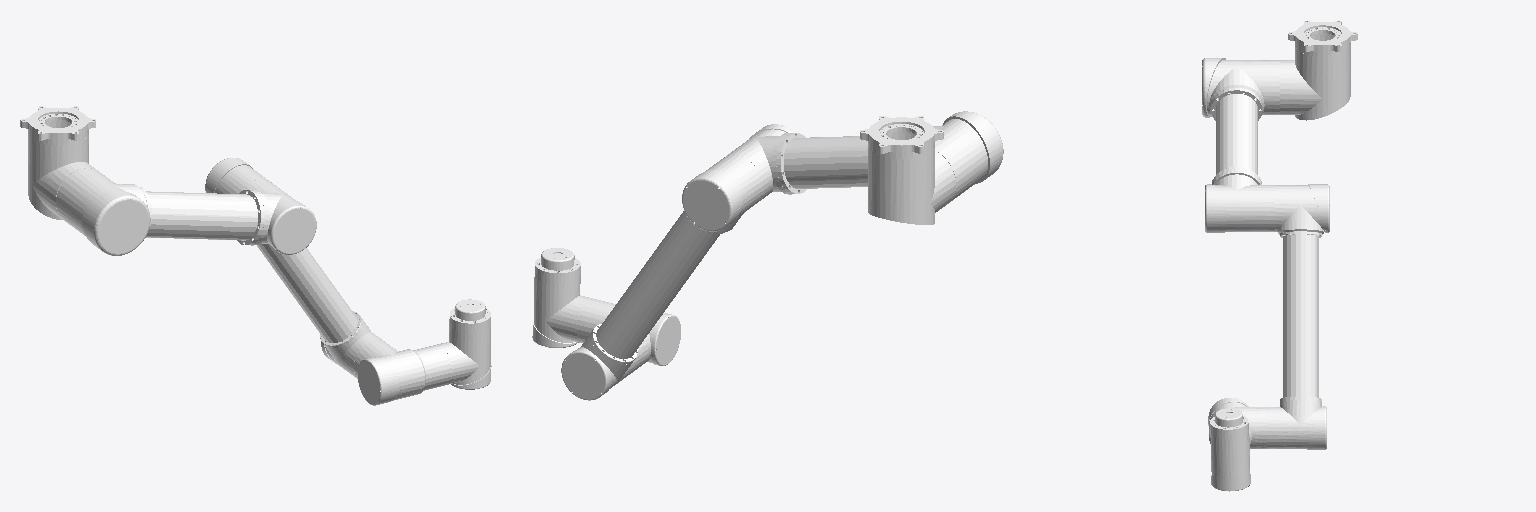
robot.urdf — uuuuuu:
<?xml version="1.0" encoding="utf-8" ?>
<!-- This URDF was automatically created by SolidWorks to URDF Exporter! Originally created by [author] ([email redacted]) 
     Commit Version: 1.6.0-4-g7f85cfe  Build Version: 1.6.7995.38578
     For more information, please see http://wiki.ros.org/sw_urdf_exporter -->
<robot name="uuuuuu">
    <link name="world">
        <!-- 无需添加inertial/visual/collision，仅作为关节父对象 -->
    </link>

    <!-- 2. 第二步：添加fixed关节，固定base_link到world（核心：基座不动，关节可动） -->
    <joint name="world_to_base" type="fixed">
        <parent link="world"/>          <!-- 父link：刚定义的world -->
        <child link="base_link"/>       <!-- 子link：你的机械臂基座 -->
        <origin xyz="0 0 2" rpy="0 0 0"/>  <!-- 基座离地2m，避免贴地碰撞 -->
        <axis xyz="0 0 0"/>             <!-- fixed关节无自由度，轴参数可省略但写全更规范 -->
    </joint>
    <link name="base_link">
        <inertial>
            <origin xyz="-0.094651602827853 -0.213660713471675 0.00488264737125347" rpy="0 0 0" />
            <mass value="0.22233807386567" />
            <inertia ixx="0.000368095320162521" ixy="-1.04638347487958E-19" ixz="2.42627171555454E-20" iyy="0.000368095320162521" iyz="1.09920013538763E-19" izz="0.000709708576103173" />
        </inertial>
        <visual>
            <origin xyz="0 0 0" rpy="0 0 0" />
            <geometry>
                <mesh filename="package://uuuuuu/meshes/base_link.STL" />
            </geometry>
            <material name="">
                <color rgba="1 1 1 1" />
            </material>
        </visual>
        <collision>
            <origin xyz="0 0 0" rpy="0 0 0" />
            <geometry>
                <mesh filename="package://uuuuuu/meshes/base_link.STL" />
            </geometry>
        </collision>
    </link>
    
    <link name="Empty_Link1">
        <inertial>
            <origin xyz="9.336300414442E-07 0.0315935410455933 0.0280443968773365" rpy="0 0 0" />
            <mass value="0.740353873218731" />
            <inertia ixx="0.00323603951396584" ixy="-3.81136497589404E-08" ixz="-8.88335356283492E-09" iyy="0.00320783852922774" iyz="0.000674010596583587" izz="0.00279225631276645" />
        </inertial>
        <visual>
            <origin xyz="0 0 0" rpy="0 0 0" />
            <geometry>
                <mesh filename="package://uuuuuu/meshes/Empty_Link1.STL" />
            </geometry>
            <material name="">
                <color rgba="1 1 1 1" />
            </material>
        </visual>
        <collision>
            <origin xyz="0 0 0" rpy="0 0 0" />
            <geometry>
                <mesh filename="package://uuuuuu/meshes/Empty_Link1.STL" />
            </geometry>
        </collision>
    </link>
    <joint name="joint1" type="revolute">
        <origin xyz="-0.094652 -0.21366 -0.12281" rpy="1.5708 0 0" />
        <parent link="base_link" />
        <child link="Empty_Link1" />
        <axis xyz="0 -1 0" />
        <limit lower="-3.14" upper="3.14" effort="100" velocity="1" />
        <dynamics damping="0.2" friction="0.05"/>
    </joint>
    <link name="Empty_Link2">
        <inertial>
            <origin xyz="-2.65262428689184E-08 0.20466457121005 0.00879498071494422" rpy="0 0 0" />
            <mass value="1.84379333102601" />
            <inertia ixx="0.00897464537944903" ixy="1.38180060741135E-07" ixz="3.63856286066721E-08" iyy="0.004890074823004" iyz="0.000135201097840955" izz="0.00962311964428911" />
        </inertial>
        <visual>
            <origin xyz="0 0 0" rpy="0 0 0" />
            <geometry>
                <mesh filename="package://uuuuuu/meshes/Empty_Link2.STL" />
            </geometry>
            <material name="">
                <color rgba="1 1 1 1" />
            </material>
        </visual>
        <collision>
            <origin xyz="0 0 0" rpy="0 0 0" />
            <geometry>
                <mesh filename="package://uuuuuu/meshes/Empty_Link2.STL" />
            </geometry>
        </collision>
    </link>
    <joint name="joint2" type="revolute">
        <origin xyz="0 0 0.201" rpy="-3.1416 0 1.3145" />
        <parent link="Empty_Link1" />
        <child link="Empty_Link2" />
        <axis xyz="0 0 1" />
        <limit lower="-3.14" upper="3.14" effort="100" velocity="1" />
        <dynamics damping="0.2" friction="0.05"/>
    </joint>
    <link name="Empty_Link3">
        <inertial>
            <origin xyz="9.29616495726204E-07 0.00642971596215935 0.250998444680677" rpy="0 0 0" />
            <mass value="1.10391129944902" />
            <inertia ixx="0.00650285684202923" ixy="3.05615161643247E-08" ixz="-3.93153805041194E-09" iyy="0.00681436764219383" iyz="5.90970197565359E-06" izz="0.00211728540342514" />
        </inertial>
        <visual>
            <origin xyz="0 0 0" rpy="0 0 0" />
            <geometry>
                <mesh filename="package://uuuuuu/meshes/Empty_Link3.STL" />
            </geometry>
            <material name="">
                <color rgba="1 1 1 1" />
            </material>
        </visual>
        <collision>
            <origin xyz="0 0 0" rpy="0 0 0" />
            <geometry>
                <mesh filename="package://uuuuuu/meshes/Empty_Link3.STL" />
            </geometry>
        </collision>
    </link>
    <joint name="joint3" type="revolute">
        <origin xyz="0 0.444 0.15" rpy="-1.5708 0 0.74321" />
        <parent link="Empty_Link2" />
        <child link="Empty_Link3" />
        <axis xyz="0 -1 0" />
        <limit lower="-3.14" upper="3.14" effort="100" velocity="1" />
        <dynamics damping="0.2" friction="0.05"/>
    </joint>
    <link name="Empty_Link4">
        <inertial>
            <origin xyz="0.0172857118487739 3.75722244646548E-05 0.0286026586882433" rpy="0 0 0" />
            <mass value="0.527906584946707" />
            <inertia ixx="0.00152053995911766" ixy="5.00518002907663E-07" ixz="0.000386290868823113" iyy="0.00179298454140404" iyz="-6.18196626379171E-07" izz="0.00131719359877362" />
        </inertial>
        <visual>
            <origin xyz="0 0 0" rpy="0 0 0" />
            <geometry>
                <mesh filename="package://uuuuuu/meshes/Empty_Link4.STL" />
            </geometry>
            <material name="">
                <color rgba="1 1 1 1" />
            </material>
        </visual>
        <collision>
            <origin xyz="0 0 0" rpy="0 0 0" />
            <geometry>
                <mesh filename="package://uuuuuu/meshes/Empty_Link4.STL" />
            </geometry>
        </collision>
    </link>
    <joint name="joint4" type="revolute">
        <origin xyz="0 0.165 0.518" rpy="-0.99952 0 -1.5708" />
        <parent link="Empty_Link3" />
        <child link="Empty_Link4" />
        <axis xyz="-1 0 0" />
        <limit lower="-3.14" upper="3.14" effort="100" velocity="1" />
        <dynamics damping="0.2" friction="0.05"/>
    </joint>
    <link name="Empty_Link5">
        <inertial>
            <origin xyz="5.22457929419406E-07 0.0147761086796142 0.0161672812497395" rpy="0 0 0" />
            <mass value="0.363202847189941" />
            <inertia ixx="0.000765187947848583" ixy="-7.88025172820778E-09" ixz="6.22866123100076E-09" iyy="0.000727827135422758" iyz="0.000154760297719083" izz="0.000652433272088628" />
        </inertial>
        <visual>
            <origin xyz="0 0 0" rpy="0 0 0" />
            <geometry>
                <mesh filename="package://uuuuuu/meshes/Empty_Link5.STL" />
            </geometry>
            <material name="">
                <color rgba="1 1 1 1" />
            </material>
        </visual>
        <collision>
            <origin xyz="0 0 0" rpy="0 0 0" />
            <geometry>
                <mesh filename="package://uuuuuu/meshes/Empty_Link5.STL" />
            </geometry>
        </collision>
    </link>
    <joint name="joint5" type="revolute">
        <origin xyz="0 0.00024682 0.19" rpy="-3.1403 -3.5124E-05 -3.1146" />
        <parent link="Empty_Link4" />
        <child link="Empty_Link5" />
        <axis xyz="0 0 -1" />
        <limit lower="-3.14" upper="3.14" effort="100" velocity="1" />
        <dynamics damping="0.2" friction="0.05"/>
    </joint>
    <link name="Empty_Link6">
        <inertial>
            <origin xyz="0 1.66533453693773E-16 0.00275353050717275" rpy="0 0 0" />
            <mass value="0.180344396521302" />
            <inertia ixx="9.6334580191363E-05" ixy="-3.3881317890172E-21" ixz="-1.74912303608013E-19" iyy="9.6334580191363E-05" iyz="1.18055217023568E-19" izz="0.000176202442250422" />
        </inertial>
        <visual>
            <origin xyz="0 0 0" rpy="0 0 0" />
            <geometry>
                <mesh filename="package://uuuuuu/meshes/Empty_Link6.STL" />
            </geometry>
            <material name="">
                <color rgba="1 1 1 1" />
            </material>
        </visual>
        <collision>
            <origin xyz="0 0 0" rpy="0 0 0" />
            <geometry>
                <mesh filename="package://uuuuuu/meshes/Empty_Link6.STL" />
            </geometry>
        </collision>
    </link>
    <joint name="joint6" type="revolute">
        <origin xyz="0 0.105 0" rpy="1.5708 0.5236 0" />
        <parent link="Empty_Link5" />
        <child link="Empty_Link6" />
        <axis xyz="0 0 1" />
        <limit lower="-3.14" upper="3.14" effort="100" velocity="1" />
        <dynamics damping="0.2" friction="0.05"/>
    </joint>
    <transmission name="trans_joint1">
        <type>transmission_interface/SimpleTransmission</type>
        <joint name="joint1">
            <hardwareInterface>hardware_interface/EffortJointInterface</hardwareInterface>
        </joint>
        <actuator name="joint1_motor">
            <hardwareInterface>hardware_interface/EffortJointInterface</hardwareInterface>
            <mechanicalReduction>1</mechanicalReduction>
        </actuator>
    </transmission>
    <transmission name="trans_joint2">
        <type>transmission_interface/SimpleTransmission</type>
        <joint name="joint2">
            <hardwareInterface>hardware_interface/EffortJointInterface</hardwareInterface>
        </joint>
        <actuator name="joint2_motor">
            <hardwareInterface>hardware_interface/EffortJointInterface</hardwareInterface>
            <mechanicalReduction>1</mechanicalReduction>
        </actuator>
    </transmission>
    <transmission name="trans_joint3">
        <type>transmission_interface/SimpleTransmission</type>
        <joint name="joint3">
            <hardwareInterface>hardware_interface/EffortJointInterface</hardwareInterface>
        </joint>
        <actuator name="joint3_motor">
            <hardwareInterface>hardware_interface/EffortJointInterface</hardwareInterface>
            <mechanicalReduction>1</mechanicalReduction>
        </actuator>
    </transmission>
    <transmission name="trans_joint4">
        <type>transmission_interface/SimpleTransmission</type>
        <joint name="joint4">
            <hardwareInterface>hardware_interface/EffortJointInterface</hardwareInterface>
        </joint>
        <actuator name="joint4_motor">
            <hardwareInterface>hardware_interface/EffortJointInterface</hardwareInterface>
            <mechanicalReduction>1</mechanicalReduction>
        </actuator>
    </transmission>
    <transmission name="trans_joint5">
        <type>transmission_interface/SimpleTransmission</type>
        <joint name="joint5">
            <hardwareInterface>hardware_interface/EffortJointInterface</hardwareInterface>
        </joint>
        <actuator name="joint5_motor">
            <hardwareInterface>hardware_interface/EffortJointInterface</hardwareInterface>
            <mechanicalReduction>1</mechanicalReduction>
        </actuator>
    </transmission>
    <transmission name="trans_joint6">
        <type>transmission_interface/SimpleTransmission</type>
        <joint name="joint6">
            <hardwareInterface>hardware_interface/EffortJointInterface</hardwareInterface>
        </joint>
        <actuator name="joint6_motor">
            <hardwareInterface>hardware_interface/EffortJointInterface</hardwareInterface>
            <mechanicalReduction>1</mechanicalReduction>
        </actuator>
    </transmission>
    <gazebo>
        <plugin name="gazebo_ros_control" filename="libgazebo_ros_control.so">
            <robotNamespace>/</robotNamespace>
        </plugin>
    </gazebo>
</robot>

--- Facts derived from the render (not from the file) ---
3 views of the same robot in one strip: view 1: azimuth 30°, elevation 25°; view 2: azimuth 150°, elevation 25°; view 3: azimuth 270°, elevation 25° (orthographic).
Robot: uuuuuu — 8 links, 7 joints (6 revolute, 1 fixed); root link world; default pose: every joint at zero.
Links seen in each view (by area): view 1: Empty_Link2, Empty_Link3, Empty_Link4, Empty_Link1, Empty_Link5, base_link, Empty_Link6; view 2: Empty_Link3, Empty_Link2, Empty_Link1, Empty_Link5, base_link, Empty_Link4, Empty_Link6; view 3: Empty_Link3, Empty_Link2, Empty_Link1, Empty_Link5, base_link, Empty_Link4, Empty_Link6.
Link boxes in pixels (x1,y1,x2,y2): Empty_Link2: [56, 168, 316, 255]; Empty_Link3: [205, 158, 384, 378]; Empty_Link4: [354, 341, 451, 405]; Empty_Link1: [28, 122, 97, 219]; Empty_Link5: [437, 325, 491, 389]; base_link: [20, 106, 95, 145]; Empty_Link6: [449, 299, 490, 333]; Empty_Link3: [561, 155, 762, 400]; Empty_Link2: [724, 111, 1003, 203]; Empty_Link1: [868, 133, 955, 224]; Empty_Link5: [532, 277, 592, 347]; base_link: [860, 116, 943, 158]; Empty_Link4: [577, 299, 680, 369]; Empty_Link6: [535, 248, 580, 284]; Empty_Link3: [1267, 184, 1329, 449]; Empty_Link2: [1202, 58, 1279, 232]; Empty_Link1: [1280, 35, 1350, 120]; Empty_Link5: [1210, 432, 1250, 491]; base_link: [1288, 20, 1357, 56]; Empty_Link4: [1208, 398, 1266, 448]; Empty_Link6: [1210, 408, 1248, 438].
Bounding box of the posed robot: 1.02 × 0.3637 × 0.7437 m (x, y, z).
Meshes: 7 distinct files referenced, 7 mesh visuals loaded (7 binary STL).
